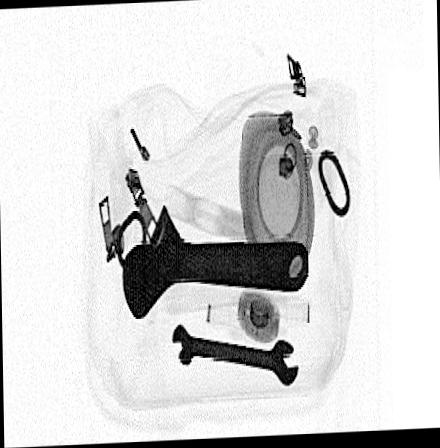Wrench: (121, 201, 309, 319), (171, 324, 299, 387)
